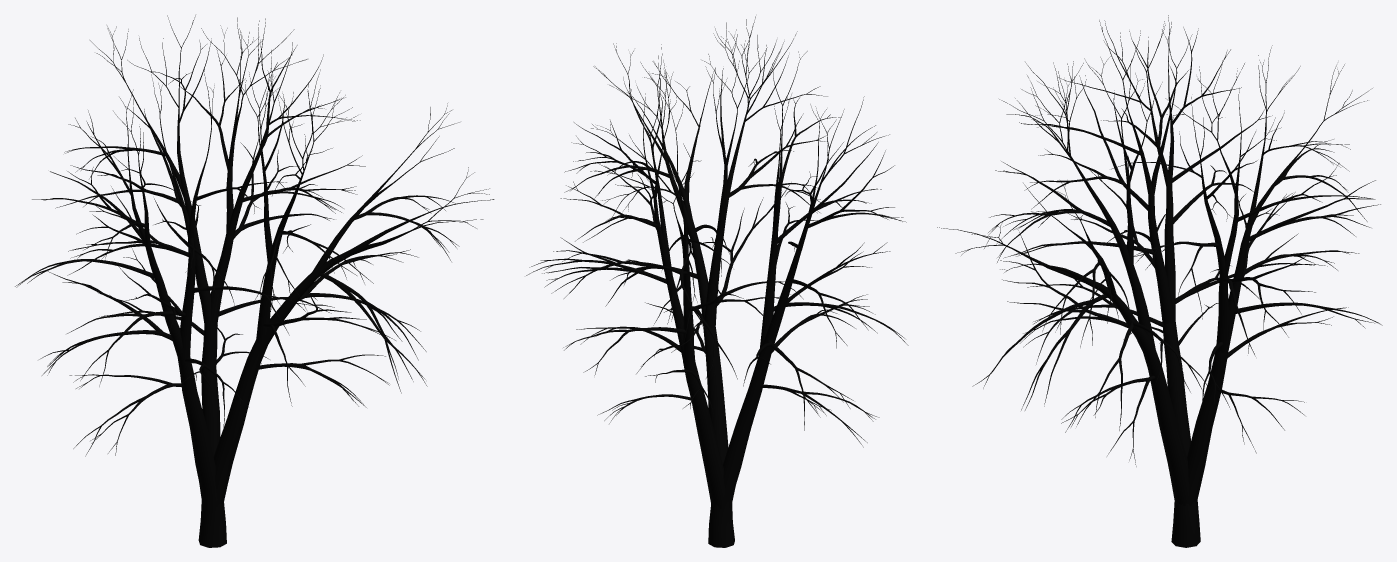
The model's file is Boom5.fbx.
3 views of the same model, side by side, from view 1: azimuth 30°, elevation 25°; view 2: azimuth 150°, elevation 25°; view 3: azimuth 270°, elevation 25° (orthographic). The views are drawn at different scales.
Parts seen in each view (by area): view 1: tree.009; view 2: tree.009; view 3: tree.009.
Part boxes in pixels (x1,y1,x2,y2): tree.009: (15,15,494,547); tree.009: (526,16,908,547); tree.009: (937,15,1382,547).
Bounding box in the file's own units: 966 × 1229 × 984.
